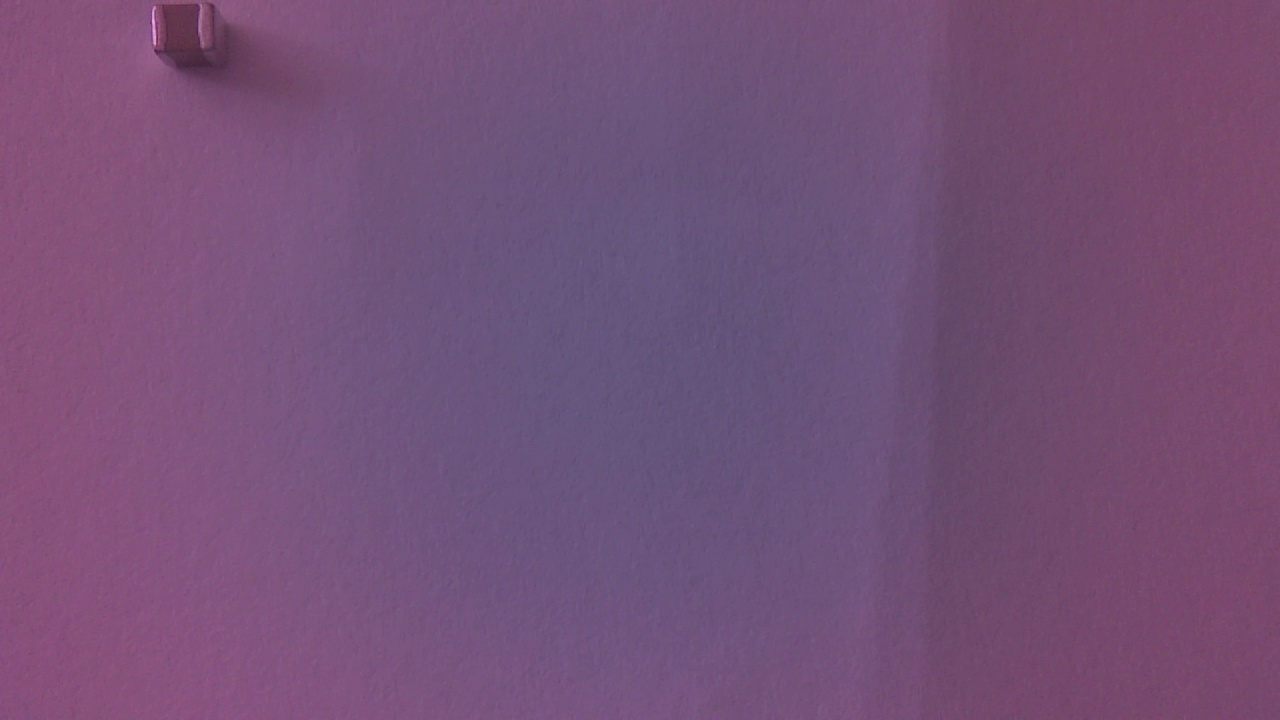Condensator: (151, 5, 240, 78)
